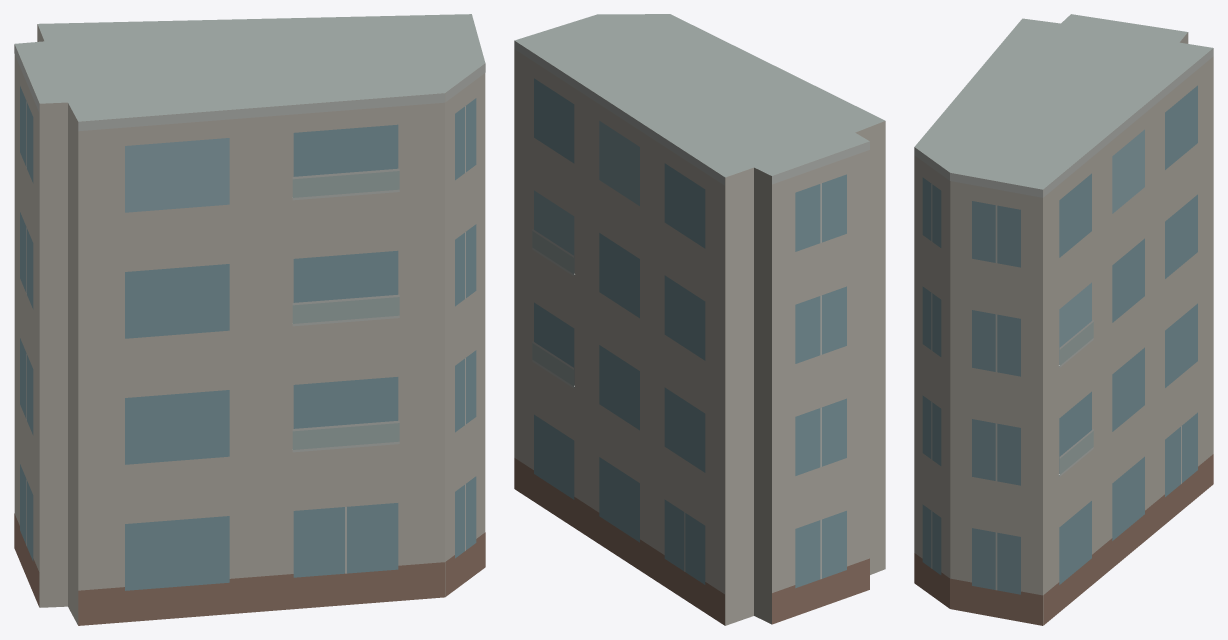
Rendered from survey-upis-32466625.glb.
3 renders of one model, left to right at view 1: azimuth 30°, elevation 25°; view 2: azimuth 150°, elevation 25°; view 3: azimuth 270°, elevation 25°, orthographic. The views are drawn at different scales.
Parts seen in each view (by area): view 1: survey-upis-32466625.tmp; view 2: survey-upis-32466625.tmp; view 3: survey-upis-32466625.tmp.
Part boxes in pixels (x1,y1,x2,y2): survey-upis-32466625.tmp: (14, 14, 485, 625); survey-upis-32466625.tmp: (514, 14, 885, 625); survey-upis-32466625.tmp: (914, 14, 1213, 625).
Bounding box in the file's own units: 11.15 × 12.9 × 8.03.
